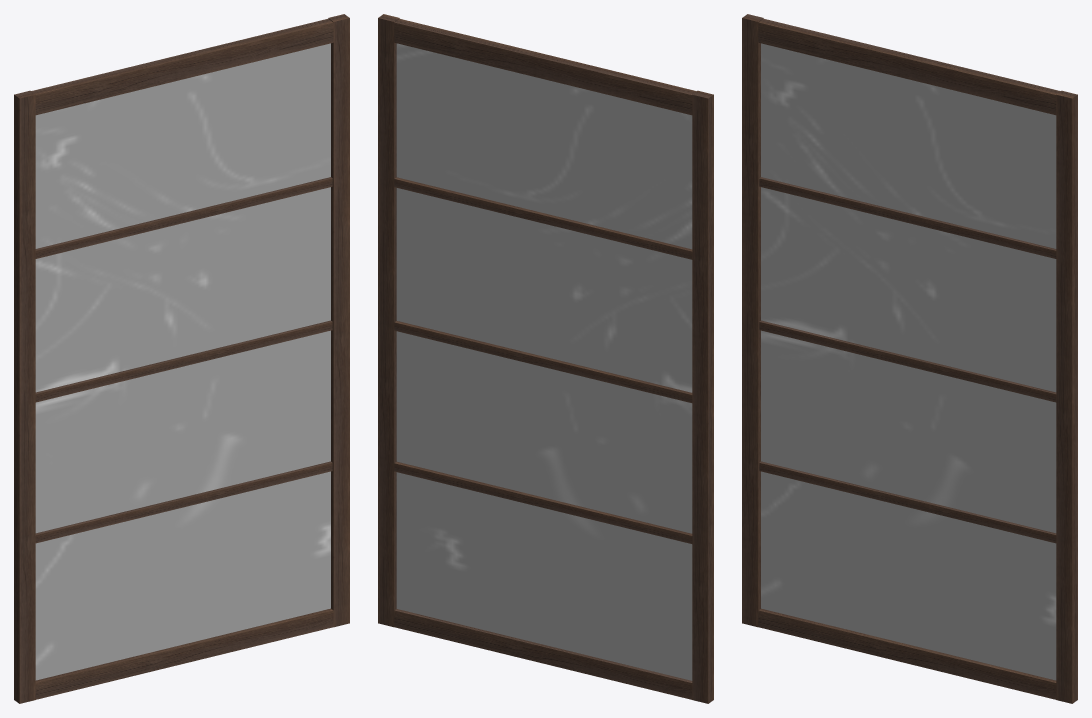
File: window_b01a.fbx
The picture shows the model from 3 angles, left to right: view 1: azimuth 30°, elevation 25°; view 2: azimuth 150°, elevation 25°; view 3: azimuth 330°, elevation 25°; orthographic projection.
Parts seen in each view (by area): view 1: window_b01a; view 2: window_b01a; view 3: window_b01a.
Part boxes in pixels (x1,y1,x2,y2): window_b01a: [14, 14, 349, 703]; window_b01a: [378, 14, 713, 703]; window_b01a: [742, 14, 1077, 703].
Bounding box in the file's own units: 81.13 × 142 × 2.33.
